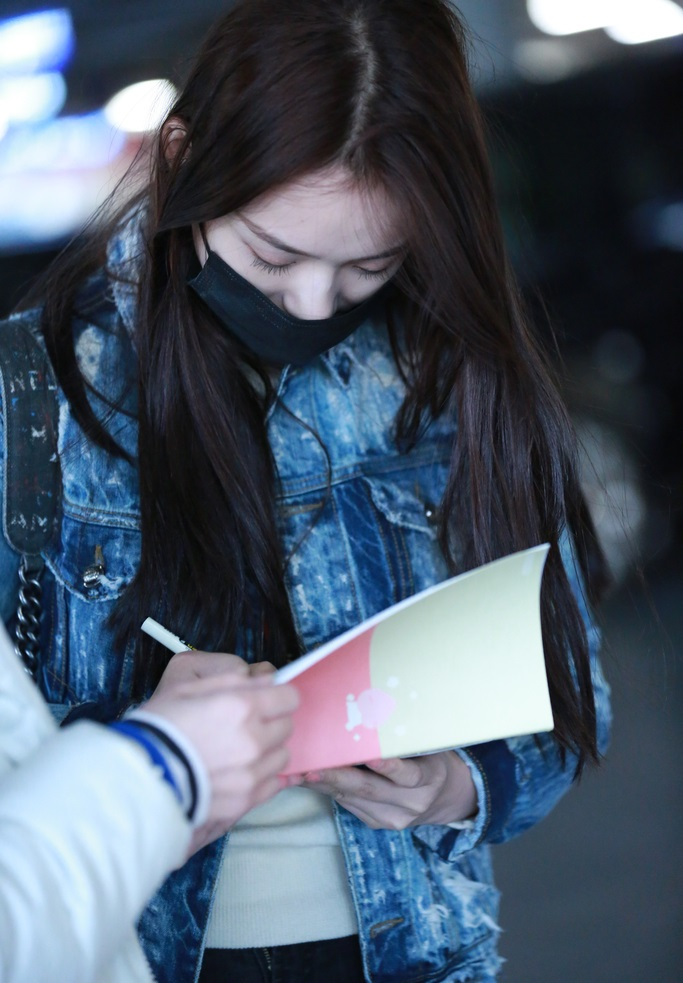face_mask: (216, 144, 405, 377)
